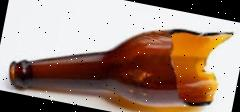glass: (4, 0, 235, 112)
